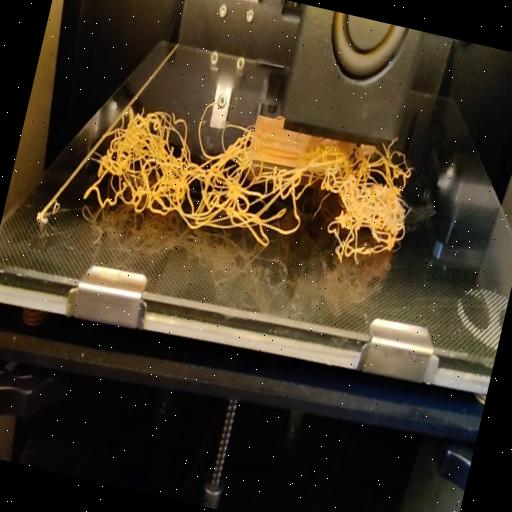spaghetti: (82, 84, 428, 286)
